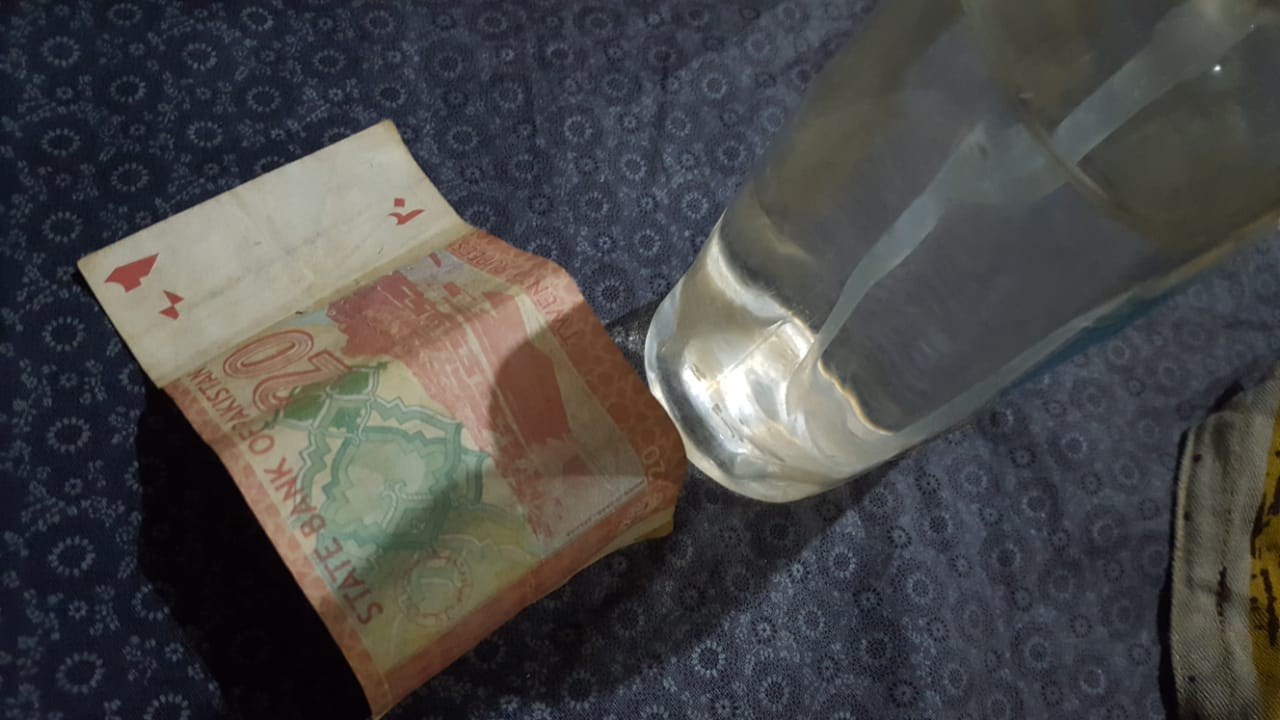20 rupee: (72, 94, 723, 713)
